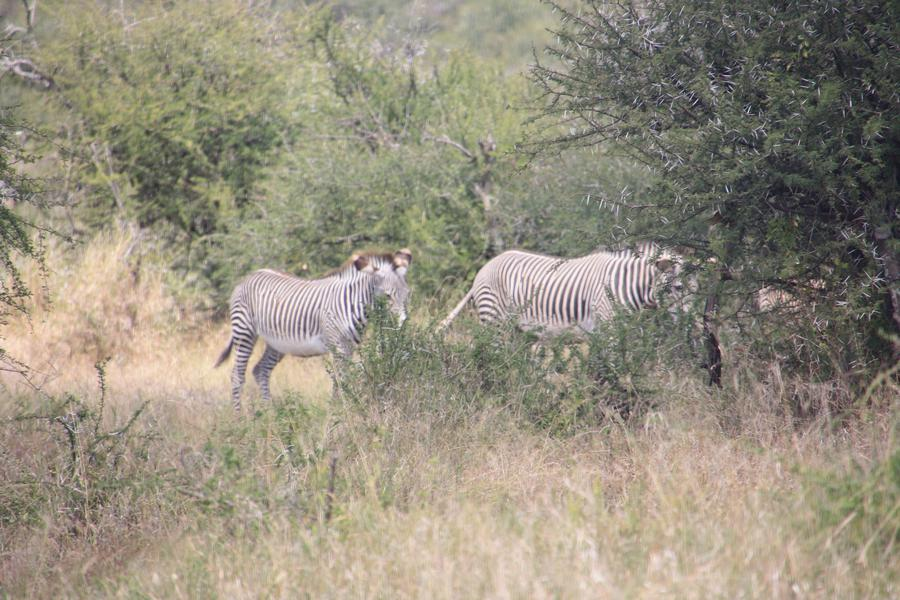zebra_grevys: (476, 243, 616, 319), (232, 257, 344, 341)
